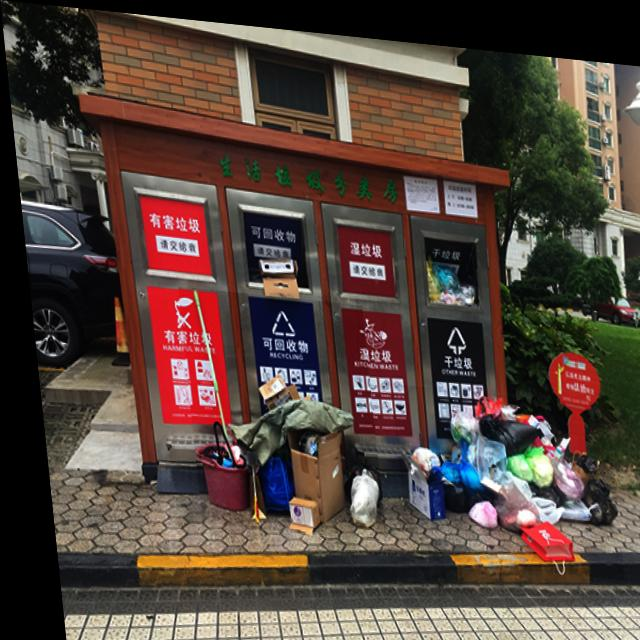garbage: (172, 284, 375, 535), (383, 376, 613, 567)
